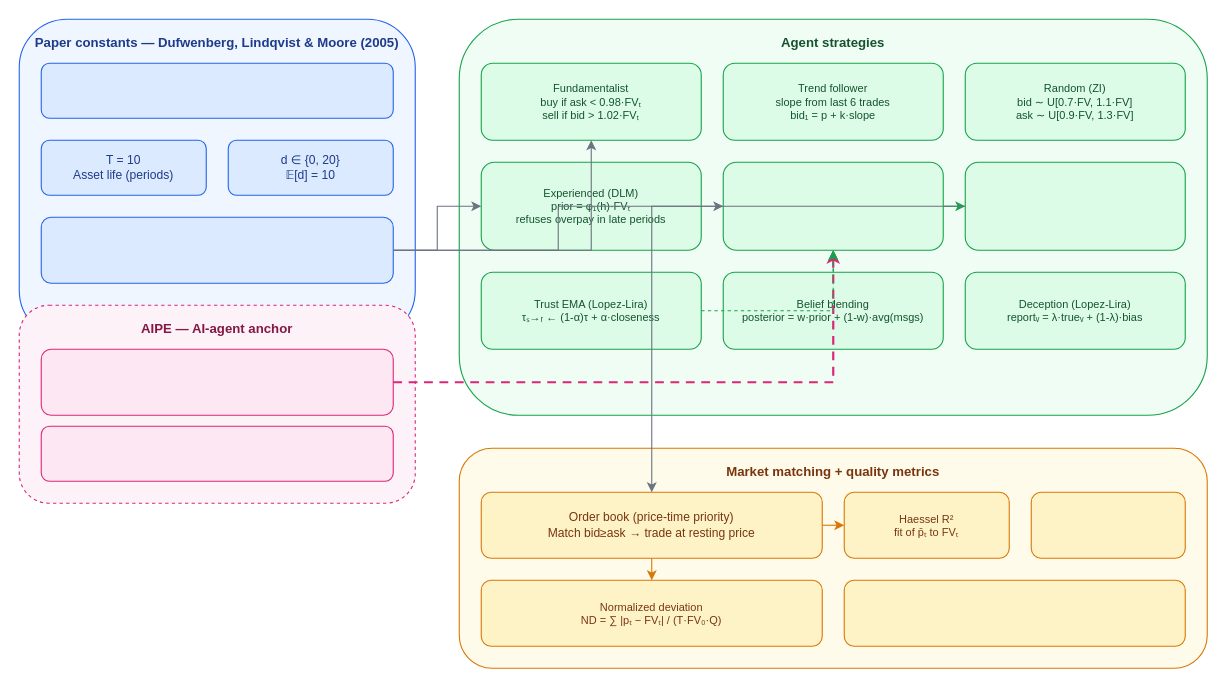
Some shapes in this 1227 by 688 pixel diagram are drawn without their labels. The shapes that lost their labels are listed below. From the top down, each one's centre as x and y in pixels, then its label:
At [216,90]: "R = 4 rounds / session same six traders, round-end reset of cash + inventory".
At [832,205]: "Utility (Lopez-Lira 2025) prior = FVₜ·(1 + b + ε) risk: Uₗ, Uₙ, Uₐ".
At [1074,205]: "EUₚ = p U(w₁) + (1-p) U(w₀) a* = argmax EU".
At [216,249]: "FVₜ = 𝔼[d] · (T − t + 1) resets at every round start".
At [216,381]: "V̂ᵢ ← AIPE(agent i) V̂ᵢ ∈ [0.25·FV₀, 1.75·FV₀]".
At [216,453]: "Does the asset end up with the highest-V̂ agent?".
At [1107,524]: "Amplitude (max-min residual)/FV₀".
At [1014,612]: "Turnover = ∑ qty / Q".
